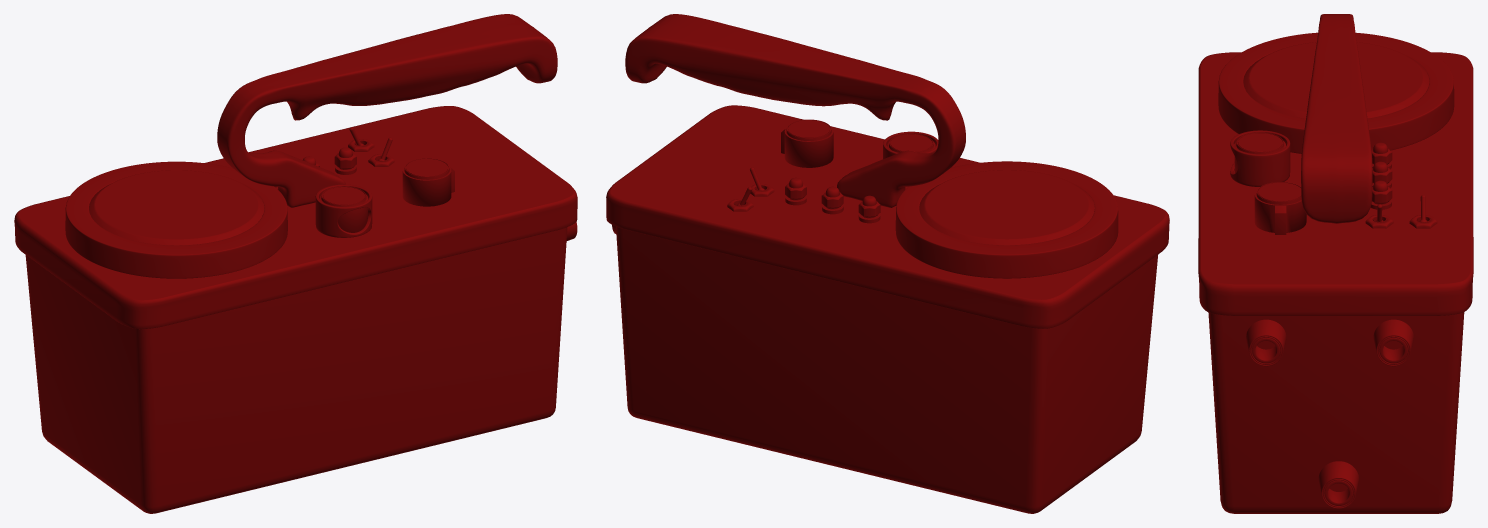
The model's file is GeigerCounterJunto_L.fbx.
3 views of the same model, side by side, from view 1: azimuth 30°, elevation 25°; view 2: azimuth 150°, elevation 25°; view 3: azimuth 270°, elevation 25° (orthographic). The views are drawn at different scales.
Visible parts, largest first — view 1: Piece010_L, Piece011_L, Piece013_L, Piece009_L, Piece004_L, Piece014_L, Piece019_L, Piece001_L; view 2: Piece010_L, Piece011_L, Piece013_L, Piece009_L, Piece004_L, Piece014_L, Piece001_L, Piece019_L; view 3: Piece010_L, Piece011_L, Piece013_L, Piece009_L, Piece004_L, Piece016_L, Piece014_L, Piece001_L, Piece019_L, Piece002_L.
Part boxes in pixels (x1,y1,x2,y2): Piece010_L: (25,227,567,513); Piece011_L: (14,106,577,329); Piece013_L: (217,14,557,207); Piece009_L: (65,161,287,278); Piece004_L: (89,170,264,245); Piece014_L: (315,158,454,237); Piece019_L: (319,186,368,232); Piece001_L: (274,147,356,189); Piece010_L: (616,226,1157,513); Piece011_L: (606,105,1169,328); Piece013_L: (625,14,965,207); Piece009_L: (895,161,1118,278); Piece004_L: (919,170,1094,245); Piece014_L: (781,119,938,167); Piece001_L: (785,177,880,223); Piece019_L: (887,133,935,153); Piece010_L: (1208,312,1464,513); Piece011_L: (1198,52,1473,315); Piece013_L: (1301,14,1372,223); Piece009_L: (1218,32,1454,153); Piece004_L: (1243,42,1429,118); Piece016_L: (1246,319,1413,508); Piece014_L: (1230,130,1306,234); Piece001_L: (1371,142,1392,209); Piece019_L: (1234,132,1285,173); Piece002_L: (1365,215,1437,228).
Size of the model in its own units: 20.44 by 14.56 by 9.67.
